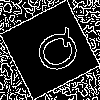Q: (24, 24, 85, 82)
